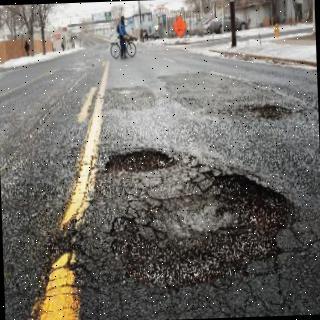pothole: (109, 168, 300, 290), (102, 148, 180, 176), (217, 101, 294, 126)
